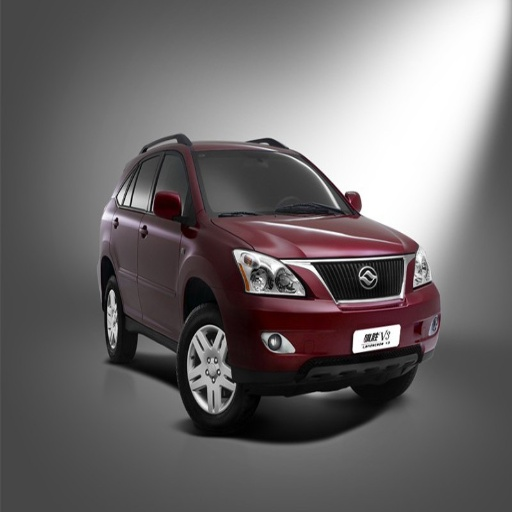back_left_light: (113, 146, 163, 320)
back_right_light: (226, 253, 440, 386)
front_bumper: (191, 147, 353, 214)
front_left_door: (411, 253, 431, 288)
front_left_light: (139, 146, 193, 334)
front_right_door: (234, 248, 308, 298)
front_right_light: (219, 215, 417, 260)
trunk: (178, 302, 259, 433), (103, 275, 134, 362)
